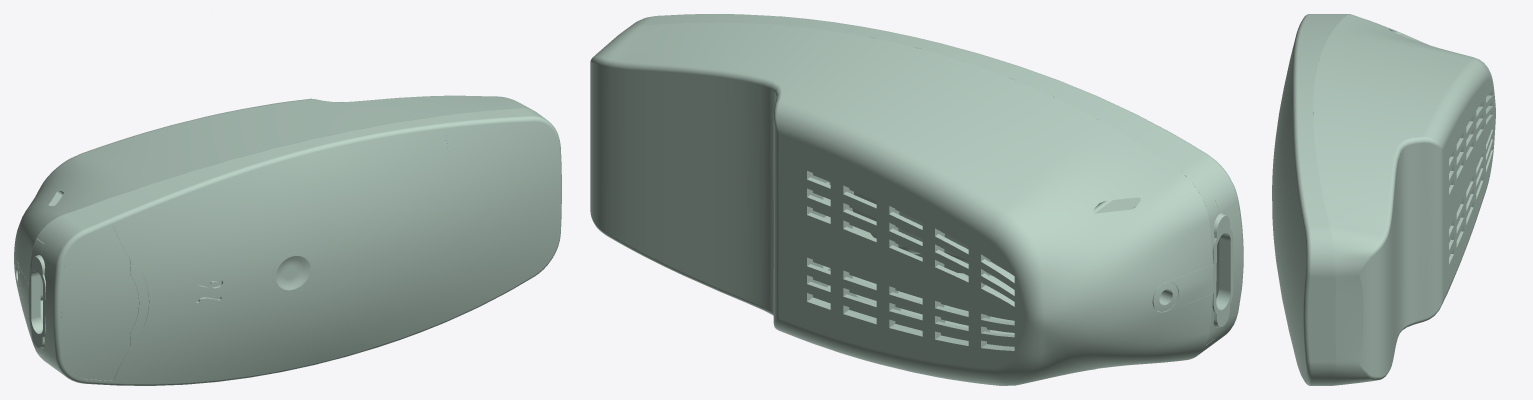
The model's file is device.glb.
3 renders of one model, left to right at view 1: azimuth 30°, elevation 25°; view 2: azimuth 150°, elevation 25°; view 3: azimuth 270°, elevation 25°, orthographic. The views are drawn at different scales.
Parts seen in each view (by area): view 1: Solid8, Solid1250, Solid7, Solid1248, Solid19, Solid1246, Solid1247; view 2: Solid7, Solid1250, Solid8, Solid19, Solid1245; view 3: Solid7, Solid1250, Solid8.
Part boxes in pixels (x1,y1,x2,y2): Solid8: (36, 117, 452, 385); Solid1250: (395, 95, 561, 322); Solid7: (14, 98, 433, 356); Solid1248: (61, 226, 138, 380); Solid19: (18, 255, 45, 347); Solid1246: (272, 252, 310, 293); Solid1247: (129, 258, 148, 347); Solid7: (717, 24, 1218, 385); Solid1250: (590, 14, 776, 290); Solid8: (766, 16, 1243, 357); Solid19: (1156, 213, 1233, 327); Solid1245: (826, 181, 1166, 311); Solid7: (1313, 14, 1495, 344); Solid1250: (1280, 162, 1395, 385); Solid8: (1272, 14, 1349, 322).
Size of the model in its own units: 0.11 by 0.0549 by 0.047.
